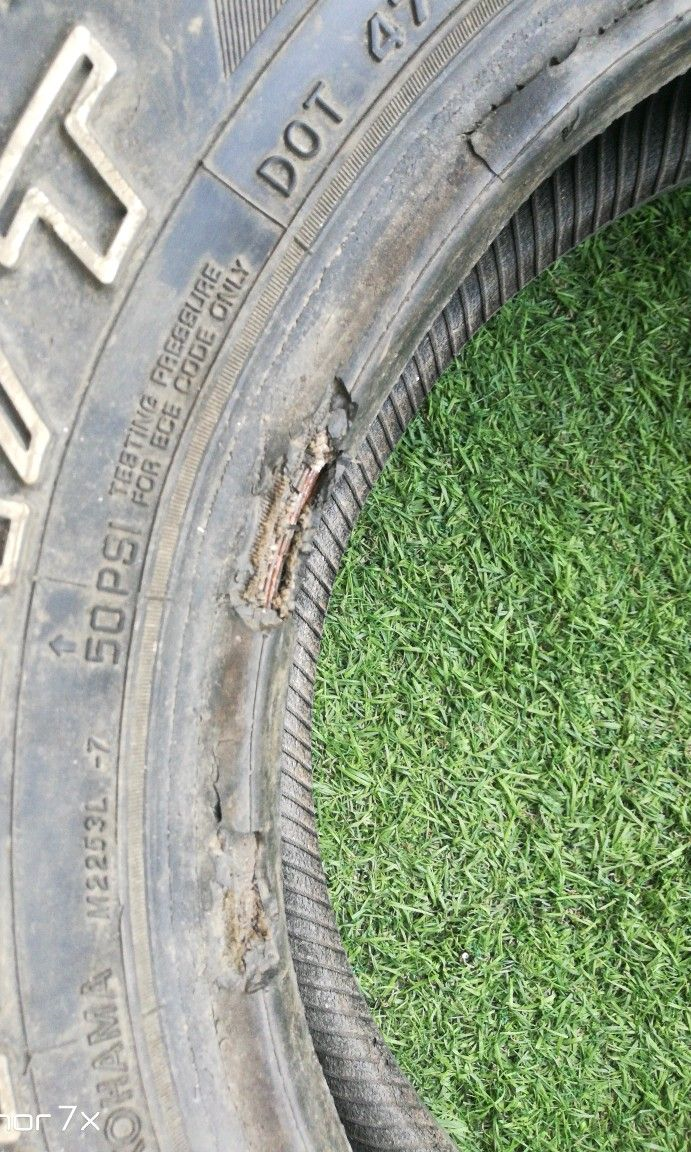bead_damage: (151, 291, 456, 1147), (447, 0, 690, 207)
